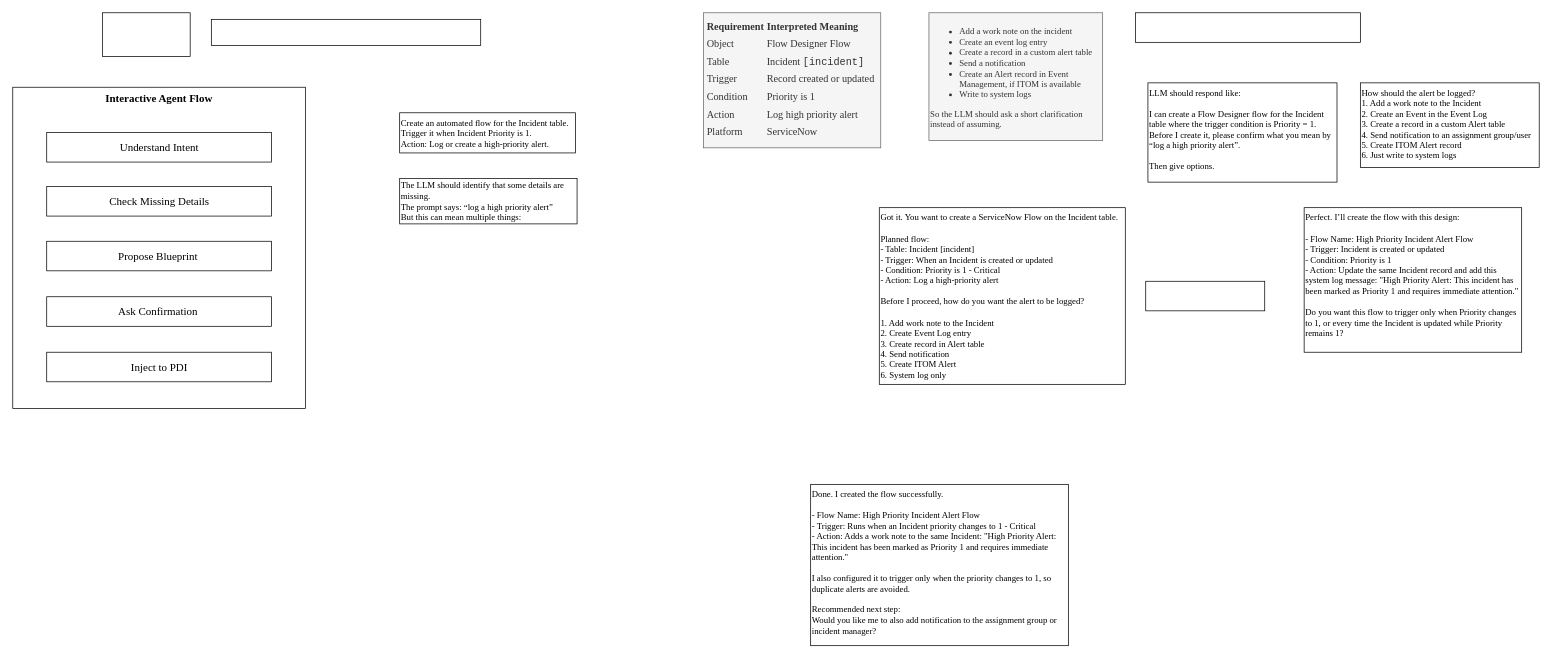
This 1552x658 diagram has some shape labels left out. The centre of each missing label's shape, as x and y in pixels:
"Acknowledge and Interpret" goes at point 1247,27.
"Create a flow on Incident whenever priority is 1 to log a high priority alert." goes at point 346,32.
"User Prompt" goes at point 146,34.
"User Reply: Write to system logs" goes at point 1205,296.
